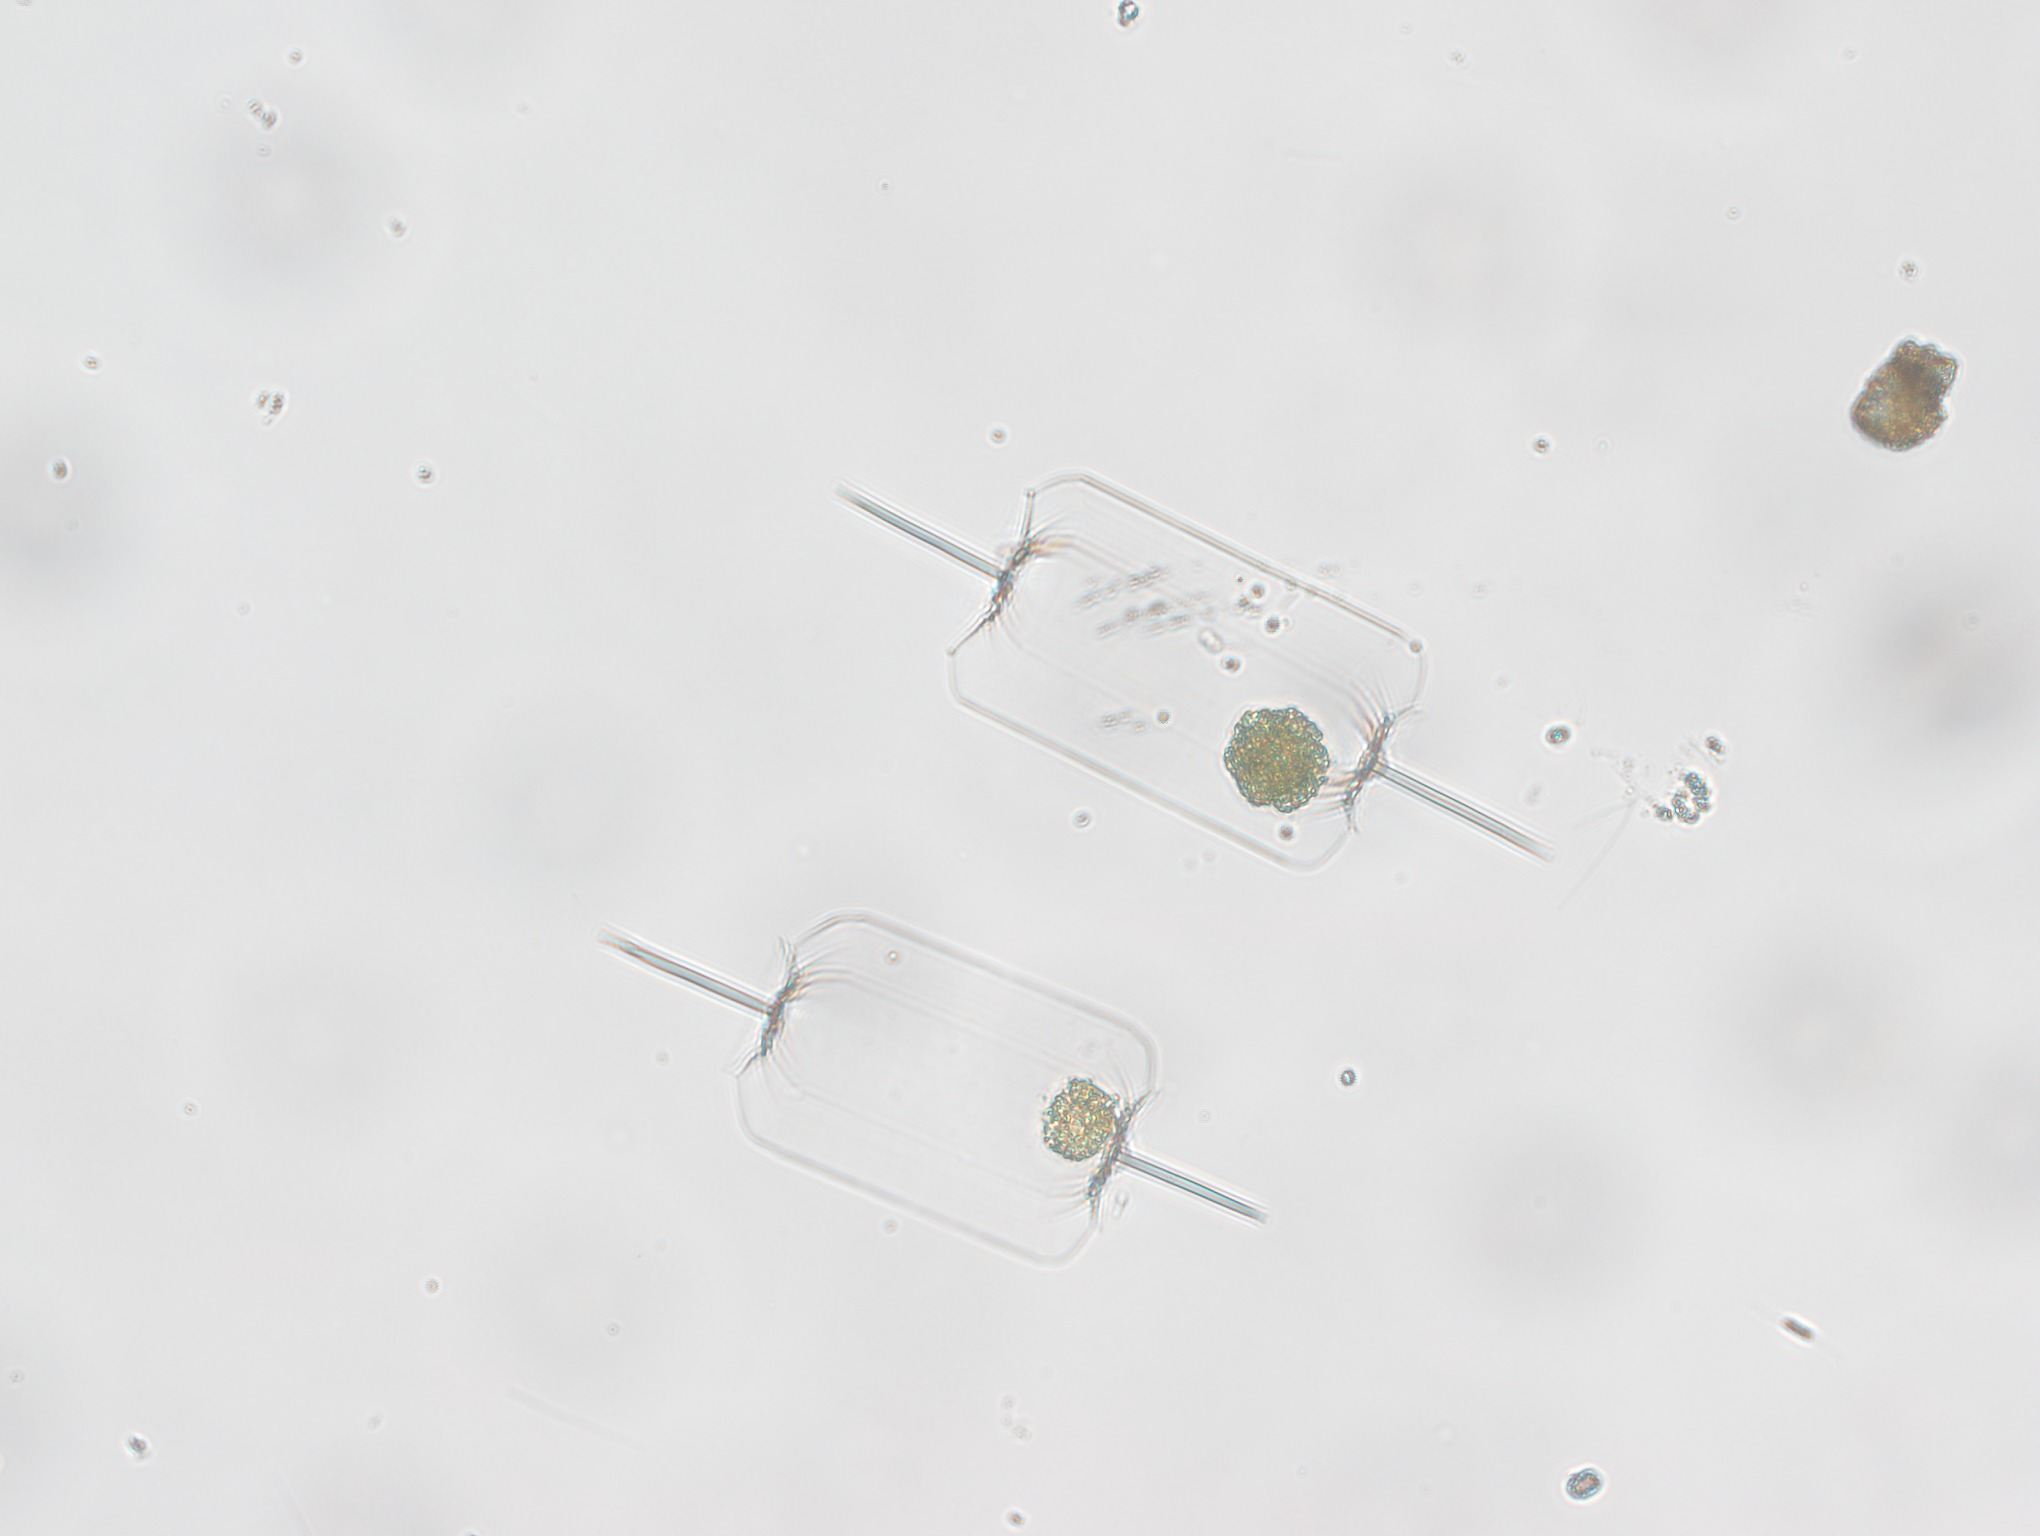ditylum: (779, 428, 1579, 912), (571, 900, 1280, 1284)
